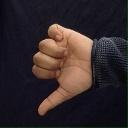hand: (31, 23, 93, 117)
